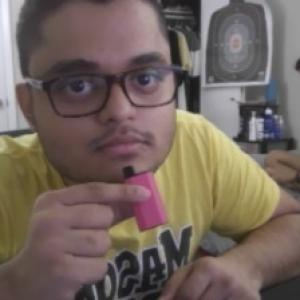Blume-E-Ciggirate: (122, 163, 167, 231)
